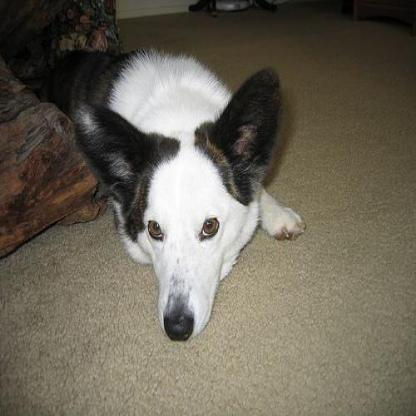Cardigan: (29, 26, 332, 336)
